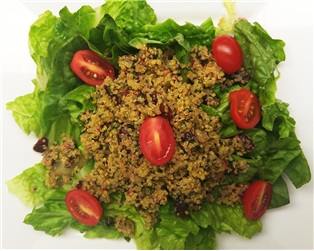chopped lettuce: (212, 23, 312, 210), (13, 1, 146, 141), (11, 192, 262, 251)
